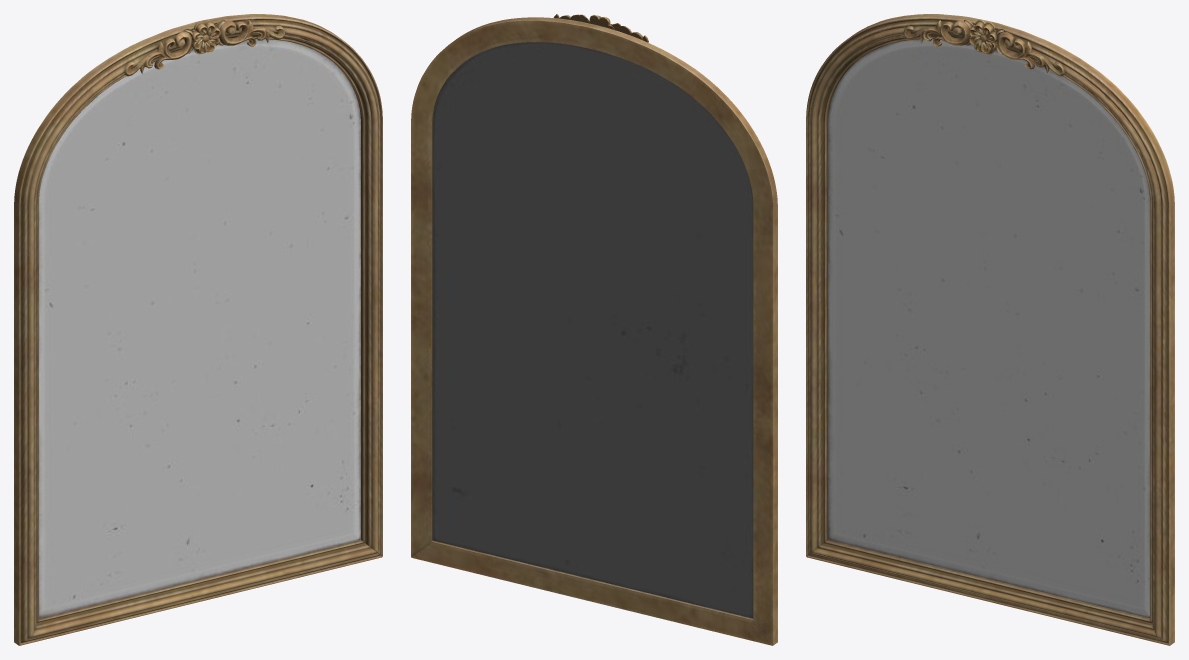
File: mirror.glb
The picture shows the model from 3 angles, left to right: view 1: azimuth 30°, elevation 25°; view 2: azimuth 150°, elevation 25°; view 3: azimuth 330°, elevation 25°; orthographic projection.
Parts seen in each view (by area): view 1: ornate_mirror_01; view 2: ornate_mirror_01; view 3: ornate_mirror_01.
Boxes of the visible parts, left/top/right/bottom form: ornate_mirror_01: left=14, top=14, right=382, bottom=645; ornate_mirror_01: left=411, top=14, right=777, bottom=645; ornate_mirror_01: left=806, top=14, right=1174, bottom=645.
Bounding box in the file's own units: 0.4865 × 0.7442 × 0.026.
1 material, 1 textured.
